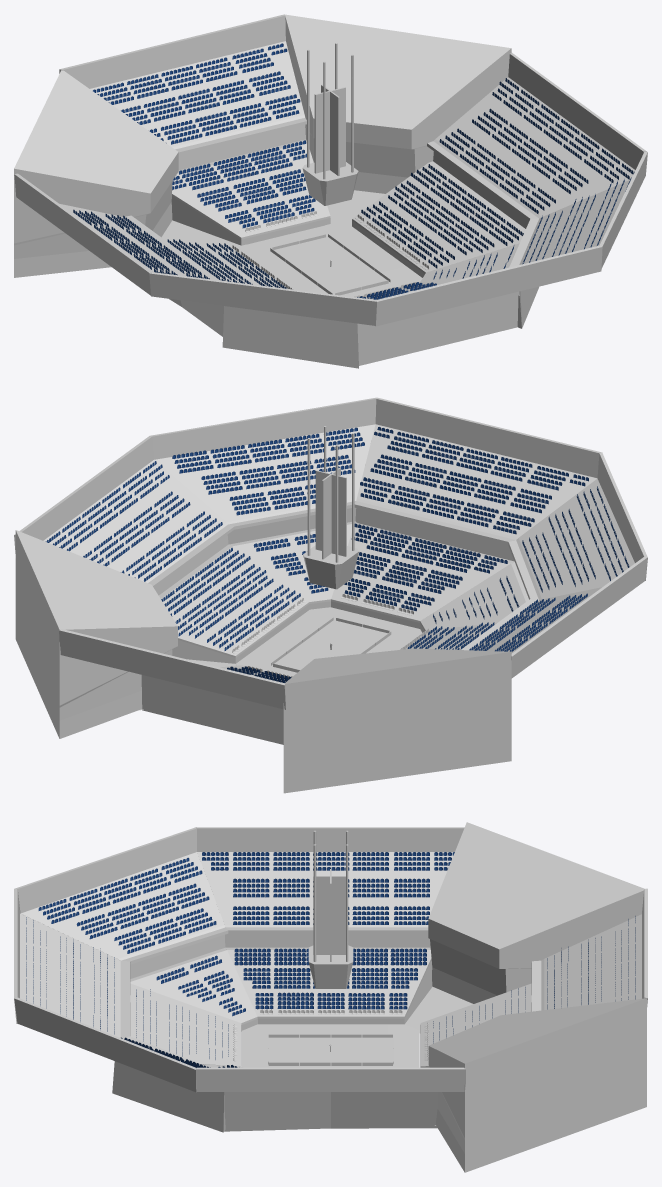
The picture shows the model from 3 angles, top to bottom: view 1: azimuth 30°, elevation 25°; view 2: azimuth 150°, elevation 25°; view 3: azimuth 270°, elevation 25°; orthographic projection.
Parts seen in each view (by area): view 1: Audience003, Audience, Box007, Box010, Audience005, Audience007, Audience004, Audience006, Floor, Court, Box011, Screen (+1 smaller); view 2: Audience005, Box010, Audience, Box007, Audience006, Audience007, Audience003, Audience004, Floor, Court, Box011, Screen (+1 smaller); view 3: Audience004, Box007, Box010, Audience007, Audience005, Audience, Audience003, Audience006, Floor, Court, Box012, Screen (+1 smaller).
Boxes of the visible parts, x1=… form: Audience003: x1=59, y1=14, x2=330, y2=245; Audience: x1=352, y1=53, x2=646, y2=277; Box007: x1=285, y1=14, x2=511, y2=225; Box010: x1=14, y1=70, x2=245, y2=277; Audience005: x1=357, y1=245, x2=602, y2=365; Audience007: x1=149, y1=272, x2=376, y2=368; Audience004: x1=14, y1=173, x2=292, y2=336; Audience006: x1=421, y1=152, x2=647, y2=328; Floor: x1=239, y1=224, x2=422, y2=297; Court: x1=274, y1=236, x2=390, y2=294; Box011: x1=314, y1=87, x2=345, y2=173; Screen: x1=302, y1=162, x2=358, y2=205; Audience005: x1=331, y1=397, x2=602, y2=628; Box010: x1=283, y1=648, x2=511, y2=793; Audience: x1=14, y1=436, x2=309, y2=663; Box007: x1=15, y1=530, x2=236, y2=738; Audience006: x1=150, y1=397, x2=376, y2=609; Audience007: x1=420, y1=452, x2=647, y2=632; Audience003: x1=59, y1=629, x2=285, y2=744; Audience004: x1=400, y1=557, x2=647, y2=678; Floor: x1=236, y1=607, x2=422, y2=676; Court: x1=271, y1=620, x2=387, y2=669; Box011: x1=315, y1=470, x2=346, y2=556; Screen: x1=303, y1=545, x2=358, y2=589; Audience004: x1=196, y1=827, x2=464, y2=1024; Box007: x1=428, y1=998, x2=646, y2=1172; Box010: x1=405, y1=822, x2=644, y2=1033; Audience007: x1=15, y1=827, x2=257, y2=1031; Audience005: x1=14, y1=888, x2=241, y2=1066; Audience: x1=196, y1=1067, x2=465, y2=1131; Audience003: x1=420, y1=888, x2=647, y2=1067; Audience006: x1=14, y1=997, x2=242, y2=1132; Floor: x1=242, y1=1024, x2=419, y2=1067; Court: x1=268, y1=1037, x2=393, y2=1065; Box012: x1=313, y1=876, x2=345, y2=954; Screen: x1=308, y1=945, x2=353, y2=988.
Size of the model in its own units: 13167 by 5510 by 14537.
Materials: 3 (3 with a texture image).
